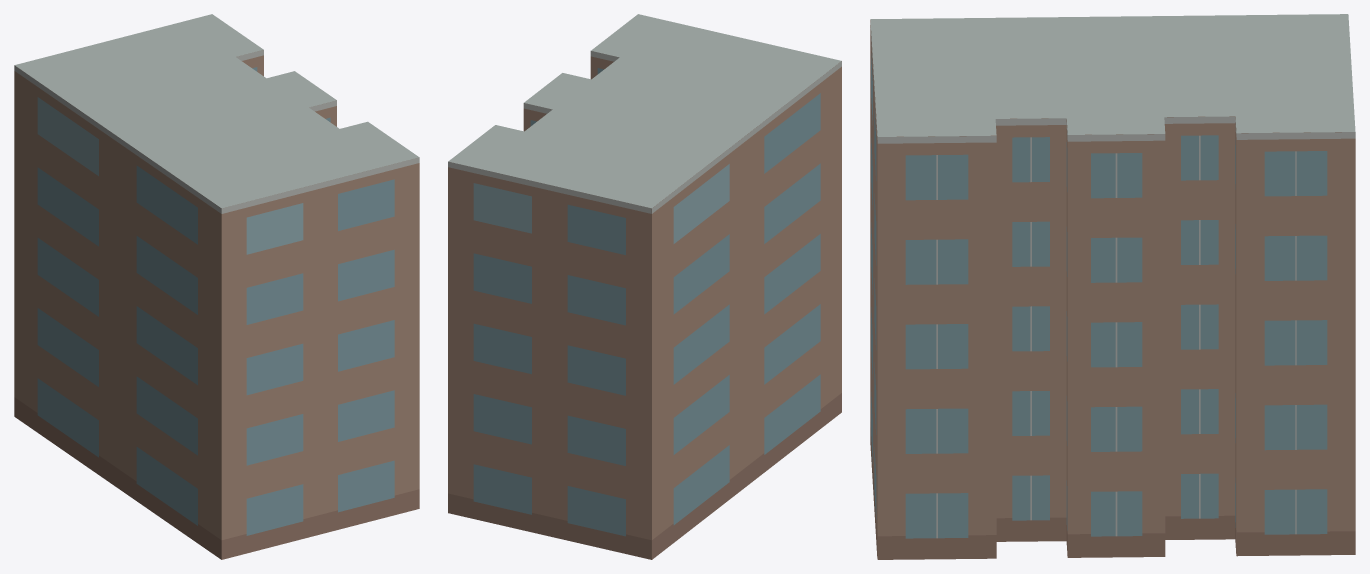
The model's file is survey-upis-32611582.glb.
The picture shows the model from 3 angles, left to right: view 1: azimuth 30°, elevation 25°; view 2: azimuth 150°, elevation 25°; view 3: azimuth 270°, elevation 25°; orthographic projection. The views are drawn at different scales.
Visible parts, largest first — view 1: survey-upis-32611582.tmp; view 2: survey-upis-32611582.tmp; view 3: survey-upis-32611582.tmp.
Boxes of the visible parts, box(x1,y1,x2,y2) form: survey-upis-32611582.tmp: box(14, 14, 419, 559); survey-upis-32611582.tmp: box(448, 14, 841, 559); survey-upis-32611582.tmp: box(870, 14, 1355, 559).
Size of the model in its own units: 9.52 by 15.25 by 15.86.
